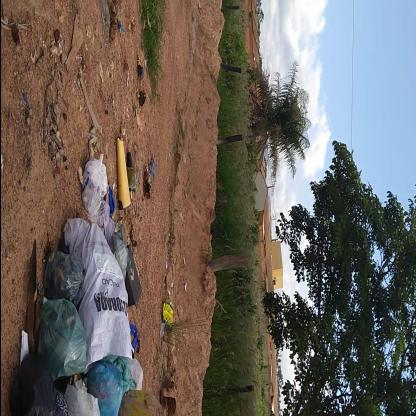lixo: (5, 132, 141, 416)
